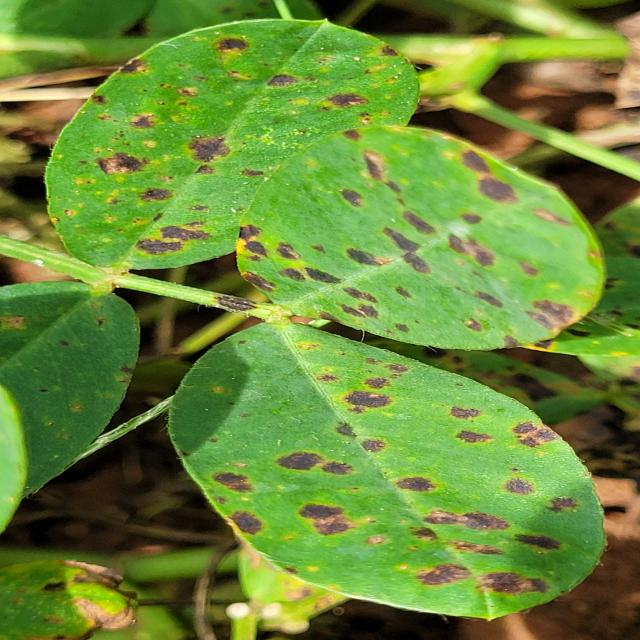Ground nut_tikka leaf spot: (161, 326, 612, 616), (40, 18, 427, 271), (232, 129, 613, 355)
